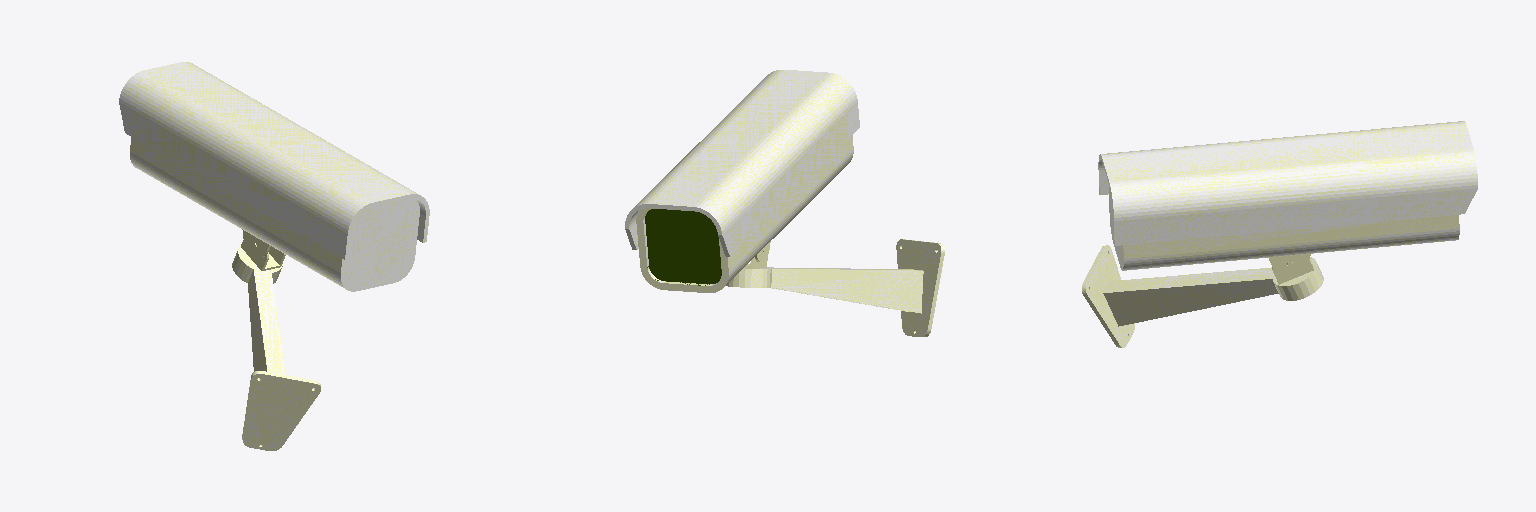
3 renders of one model, left to right at view 1: azimuth 30°, elevation 25°; view 2: azimuth 150°, elevation 25°; view 3: azimuth 270°, elevation 25°, orthographic.
Visible parts, largest first — view 1: mesh1_mesh1-geometry, mesh19_mesh19-geometry, mesh11_mesh11-geometry; view 2: mesh1_mesh1-geometry, mesh19_mesh19-geometry; view 3: mesh1_mesh1-geometry, mesh19_mesh19-geometry, mesh5_mesh5-geometry.
Boxes of the visible parts, box(x1,y1,x2,y2) form: mesh1_mesh1-geometry: box(119, 62, 429, 291); mesh19_mesh19-geometry: box(232, 245, 320, 450); mesh11_mesh11-geometry: box(241, 240, 285, 270); mesh1_mesh1-geometry: box(625, 70, 859, 292); mesh19_mesh19-geometry: box(726, 239, 944, 336); mesh1_mesh1-geometry: box(1098, 121, 1477, 270); mesh19_mesh19-geometry: box(1082, 245, 1323, 347); mesh5_mesh5-geometry: box(1269, 254, 1310, 274).
Bounding box in the file's own units: 0.4004 × 0.5146 × 0.7582.
Materials: 9 (2 with a texture image).